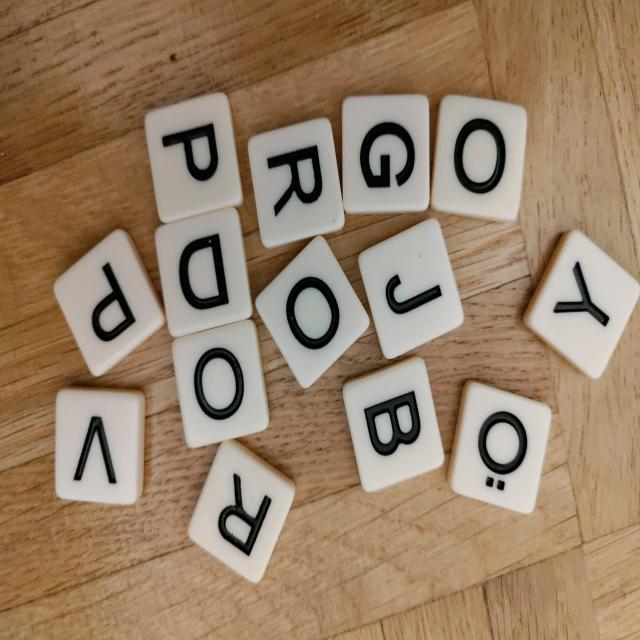b: (340, 353, 446, 495)
d: (154, 206, 255, 340)
g: (342, 95, 430, 214)
j: (356, 216, 467, 362)
o: (252, 233, 372, 392), (170, 318, 273, 451), (428, 93, 531, 224)
o_dot: (444, 378, 554, 517)
p: (51, 225, 170, 381), (144, 91, 246, 227)
r: (184, 435, 299, 588), (247, 116, 347, 250)
v: (54, 387, 146, 505)
y: (520, 220, 640, 386)
